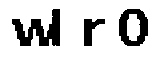0: (116, 4, 151, 50)
l: (50, 7, 73, 51)
r: (78, 15, 109, 48)
w: (9, 17, 54, 51)
